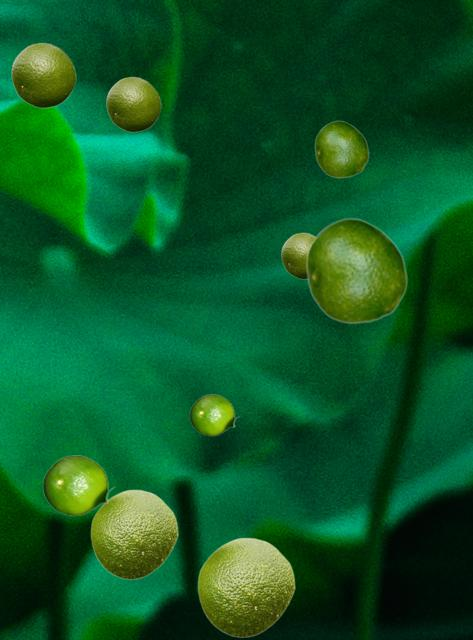calamansi: (305, 217, 407, 323), (197, 537, 294, 637), (90, 489, 177, 579), (42, 455, 115, 515), (11, 42, 75, 107), (314, 120, 368, 177), (106, 76, 160, 131), (189, 394, 239, 435), (281, 232, 314, 278)
